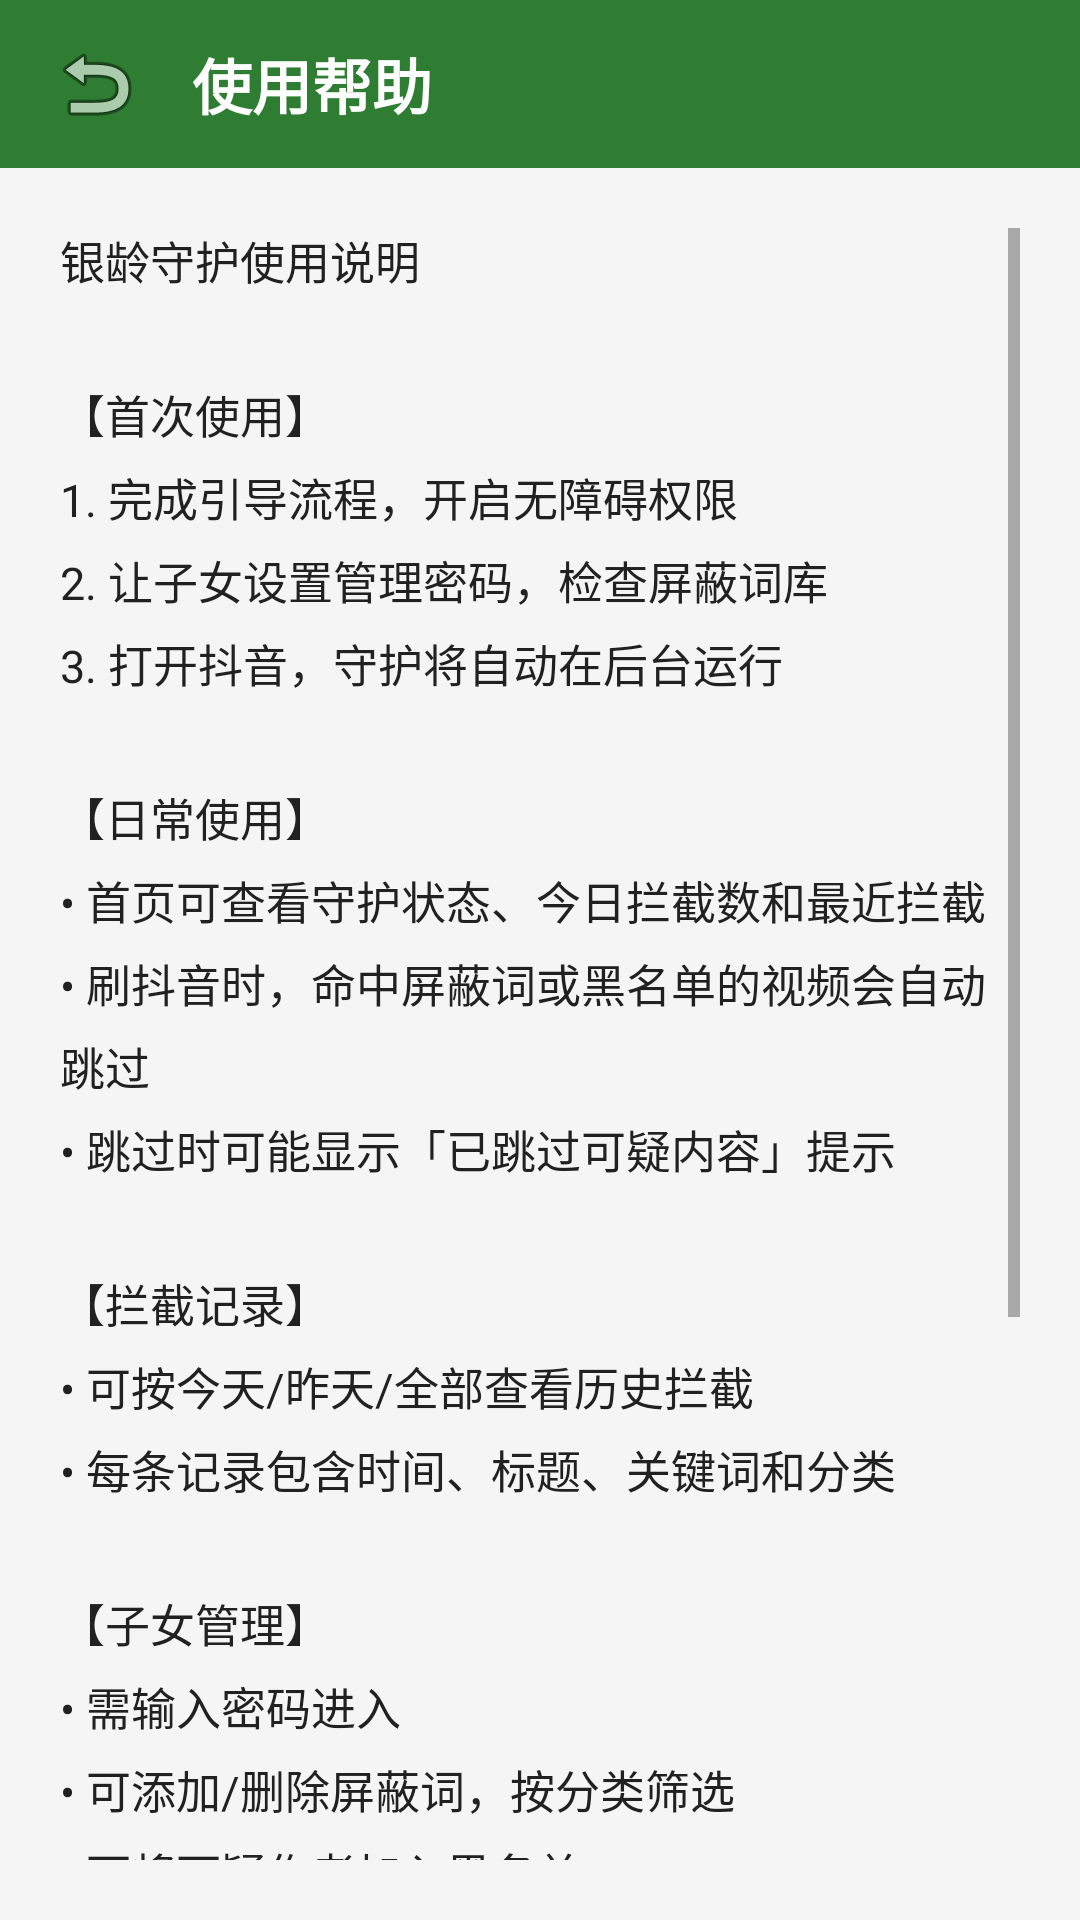

Screen size 1080 x 1920. Icon name, then its center in pixels as [x,y]:
返回: [97,85]
